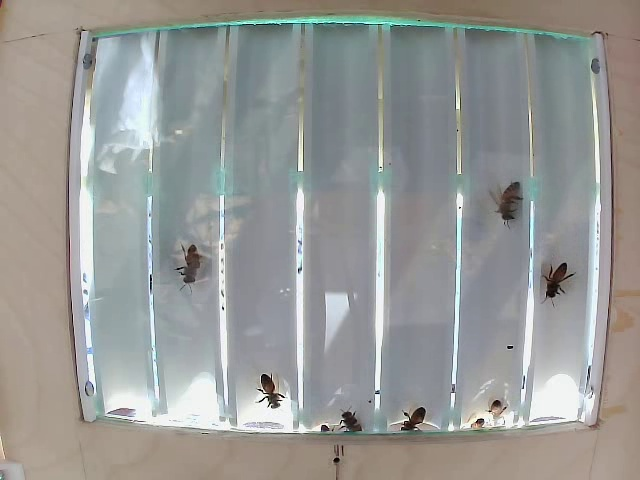bee: (248, 350, 305, 414), (536, 252, 576, 304), (492, 171, 517, 230), (179, 233, 202, 276)
